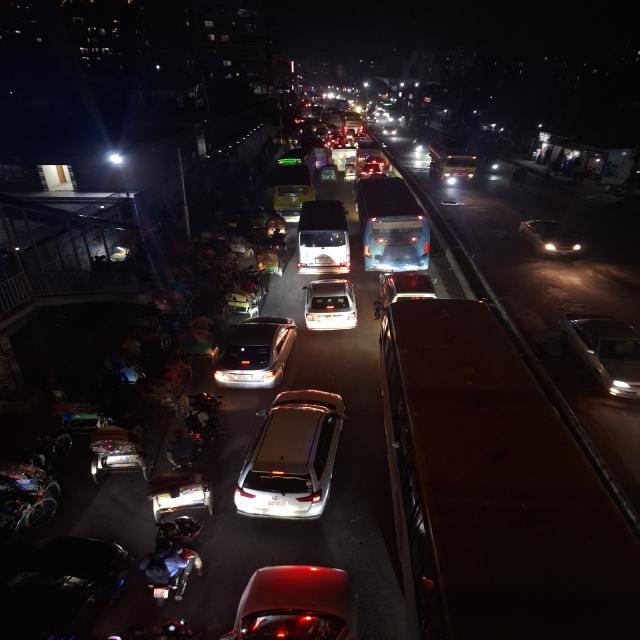bus: (370, 298, 640, 640), (359, 170, 434, 275), (294, 198, 356, 277), (269, 169, 310, 219)
car: (230, 382, 352, 536), (233, 560, 363, 640), (560, 303, 640, 405), (210, 310, 299, 389), (300, 274, 364, 334), (516, 214, 586, 262)
cng: (320, 161, 338, 187)
motorcycle: (145, 521, 203, 608), (171, 394, 221, 456)
rickshaw: (140, 449, 212, 522), (89, 414, 151, 484), (205, 267, 273, 318), (253, 241, 289, 281), (506, 168, 534, 191)
truck: (430, 142, 479, 193), (334, 147, 356, 170)
